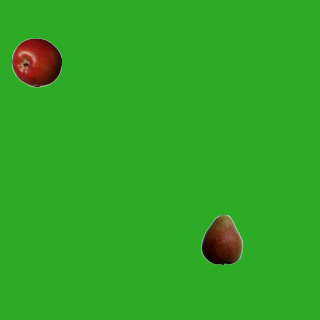Apple Braeburn: (11, 37, 61, 87)
Pear Forelle: (196, 214, 246, 264)
